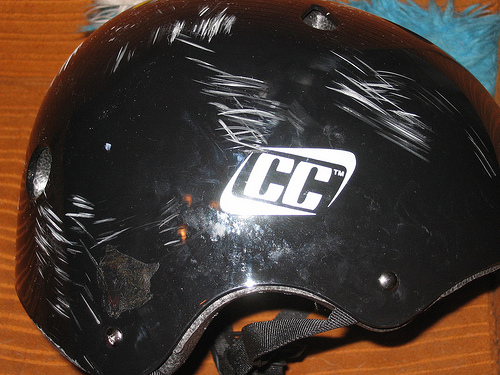helmet: (12, 13, 489, 328)
